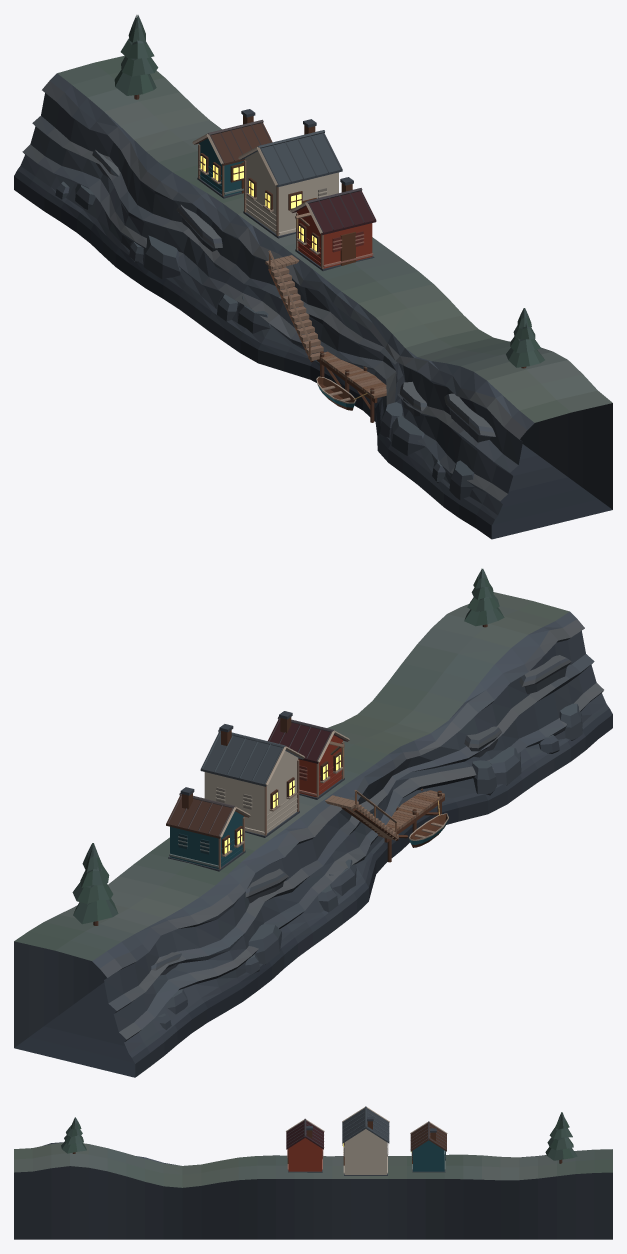
File: shore_village.glb
The picture shows the model from 3 angles, top to bottom: view 1: azimuth 30°, elevation 25°; view 2: azimuth 150°, elevation 25°; view 3: azimuth 270°, elevation 25°; orthographic projection. The views are drawn at different scales.
Visible parts, largest first — view 1: Shore_StoneTimber_Forms, Shore_MossPine_Forms, Shore_TidalPolish_Forms; view 2: Shore_StoneTimber_Forms, Shore_MossPine_Forms, Shore_TidalPolish_Forms; view 3: Shore_StoneTimber_Forms, Shore_MossPine_Forms.
Part boxes in pixels (x1,y1,x2,y2): Shore_StoneTimber_Forms: (17, 73, 612, 519); Shore_MossPine_Forms: (57, 15, 612, 422); Shore_TidalPolish_Forms: (14, 170, 612, 539); Shore_StoneTimber_Forms: (14, 612, 609, 1057); Shore_MossPine_Forms: (14, 568, 569, 960); Shore_TidalPolish_Forms: (14, 708, 612, 1077); Shore_StoneTimber_Forms: (14, 1106, 612, 1239); Shore_MossPine_Forms: (14, 1112, 612, 1187).
Bounding box in the file's own units: 6 × 8.53 × 40.
